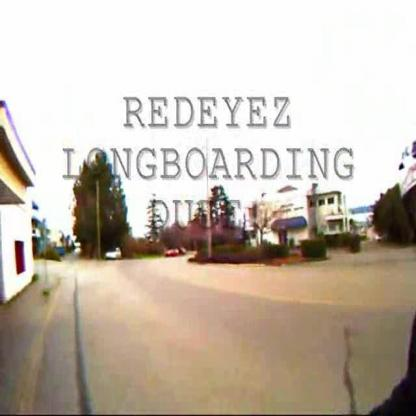other: (164, 249, 288, 310), (33, 160, 67, 226)
